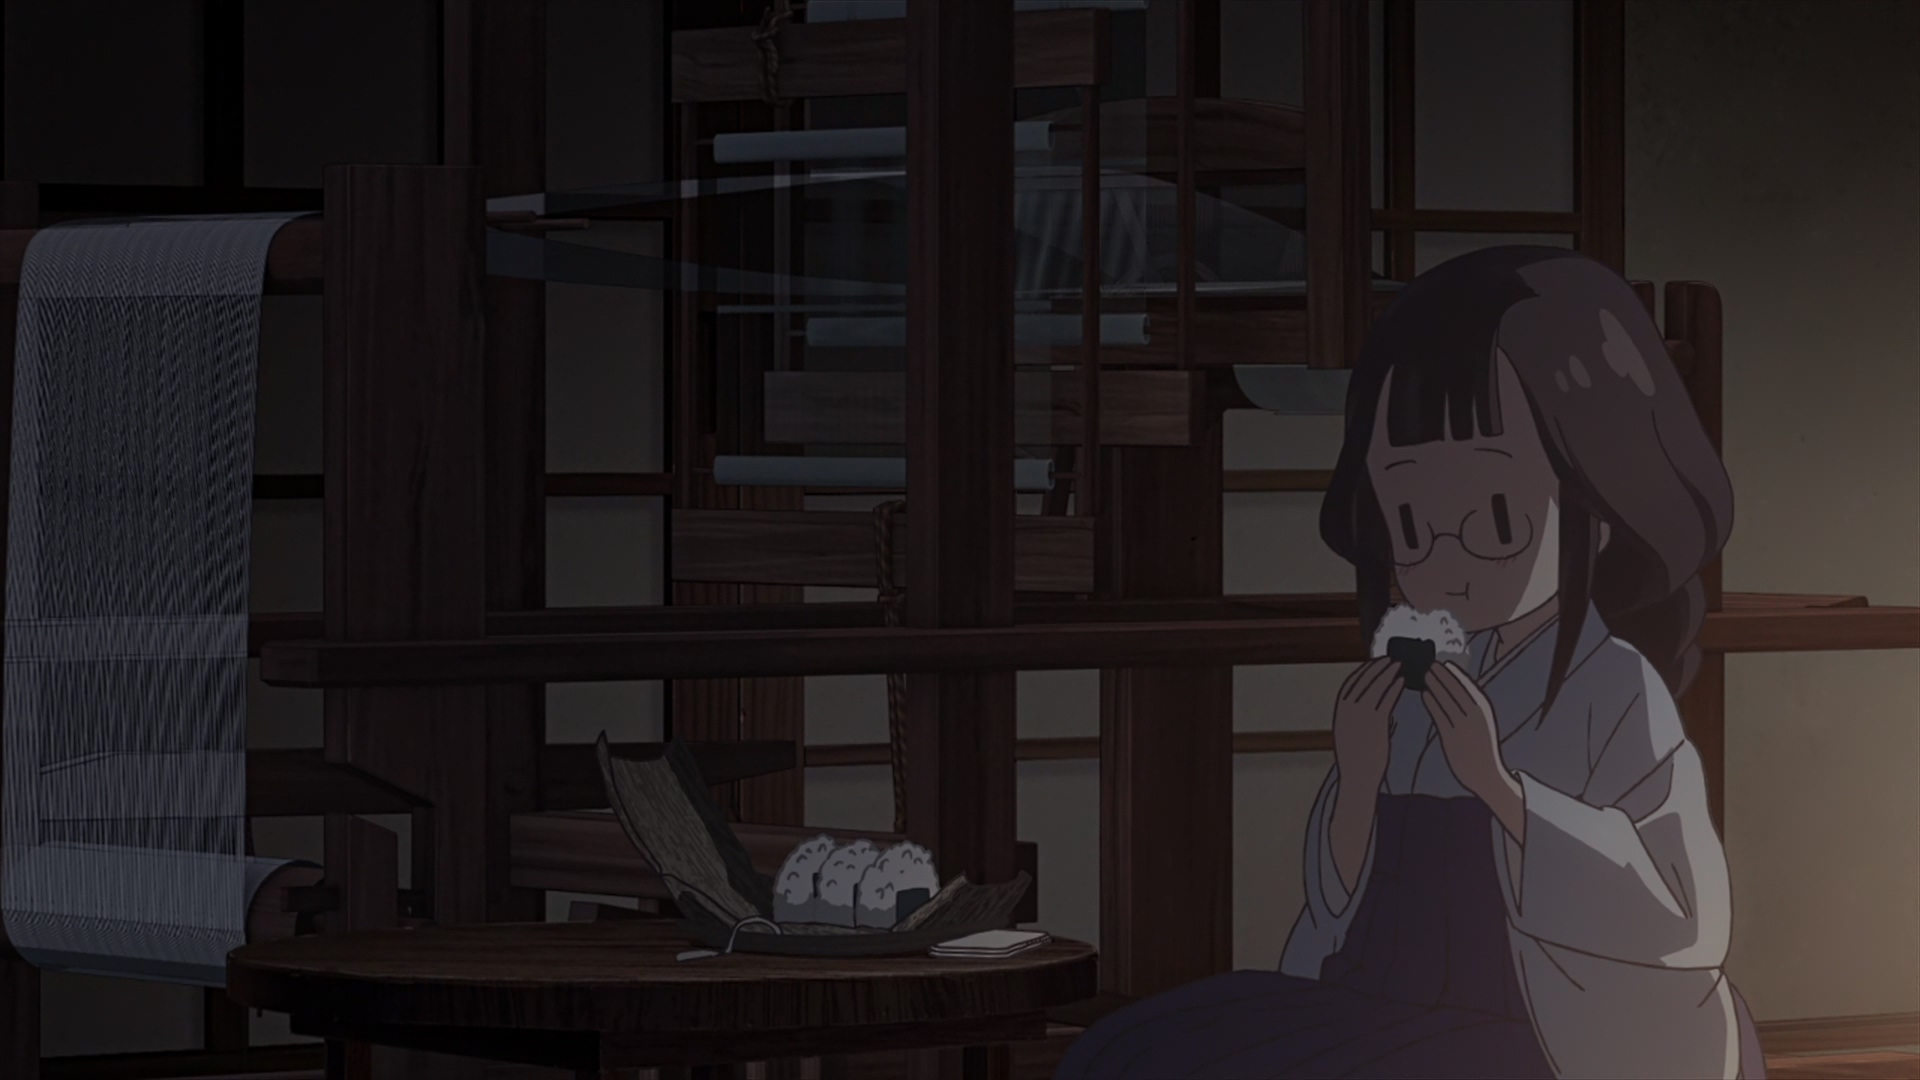其他: (1282, 251, 1762, 1080)
